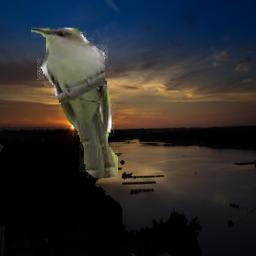Cuckoo: (31, 27, 118, 183)
